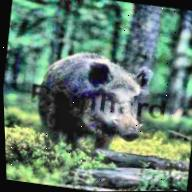boar: (16, 38, 161, 166)
